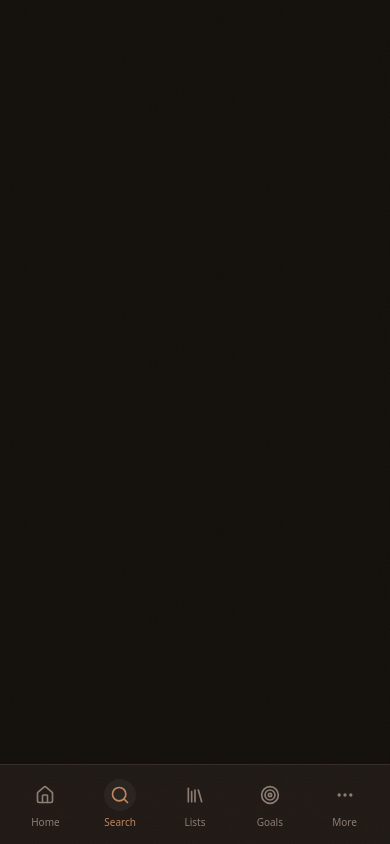
Scenario: MobileNav - Unauthenticated › shows Sign In link in More menu when not authenticated
# Open More menu
Click the button "More".
click(345, 804)  # box [307, 773, 382, 836]
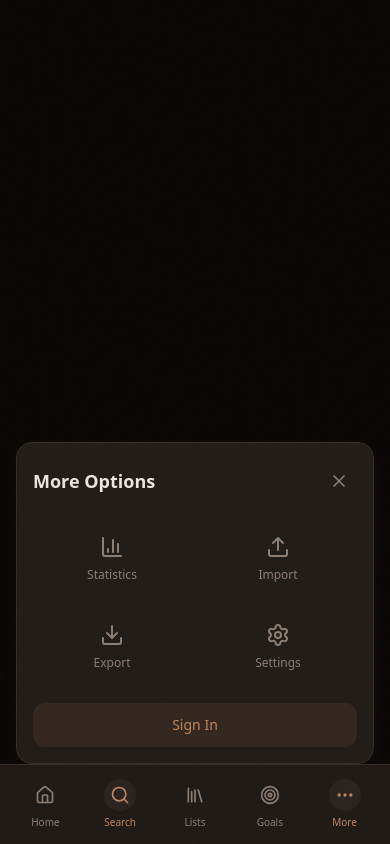
Expected: the text "Sign In" is shown, [172, 715, 218, 735]
